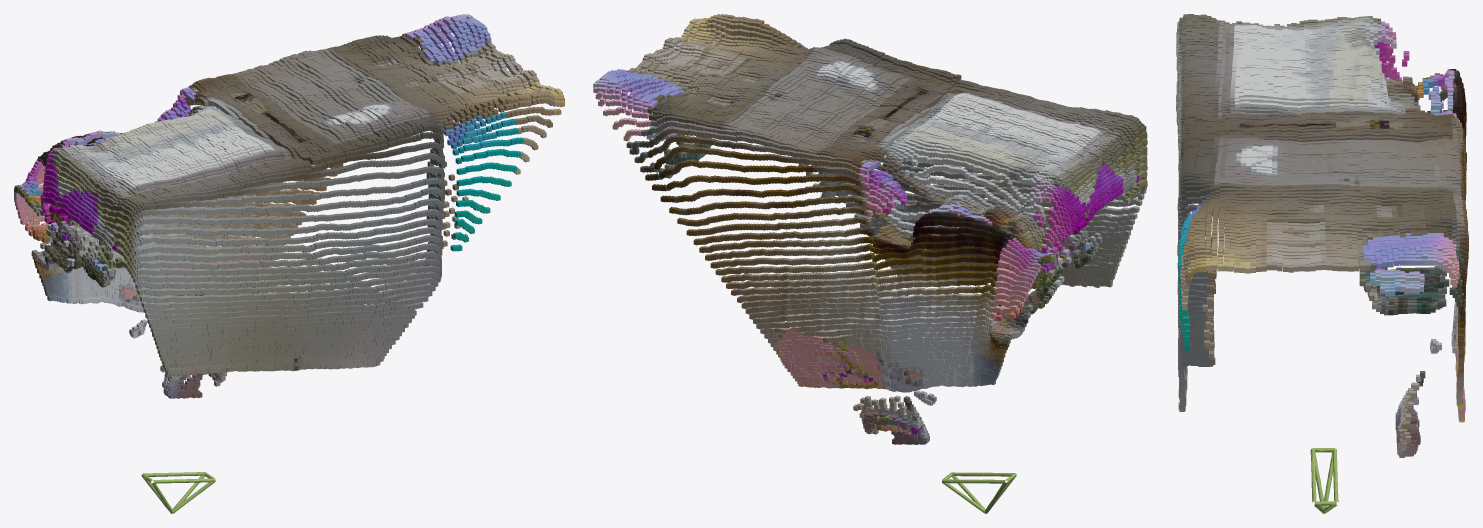
Rendered from pred_4-compressed.glb.
3 views of the same model, side by side, from view 1: azimuth 30°, elevation 25°; view 2: azimuth 150°, elevation 25°; view 3: azimuth 270°, elevation 25° (orthographic). The views are drawn at different scales.
Bounding box in the file's own units: 5.68 × 4.59 × 2.66.
